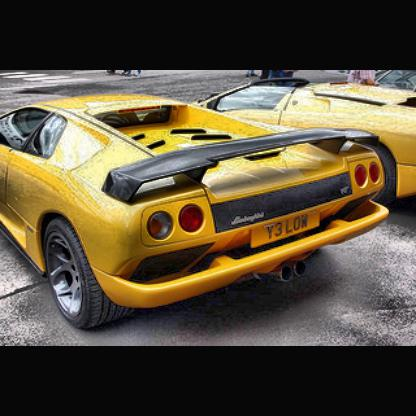Lamborghini Diablo Coupe 2001: (2, 91, 393, 336)
